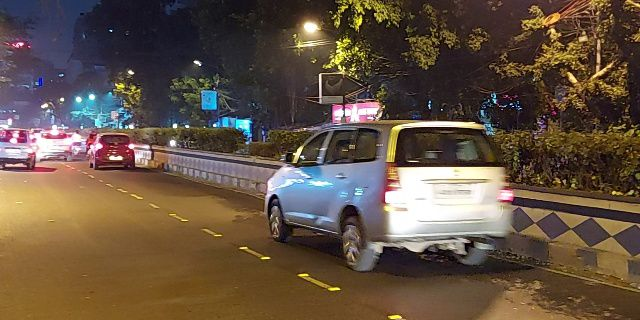Car: (268, 121, 521, 273), (85, 125, 136, 169)
